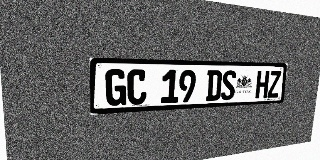1: (161, 70, 179, 103)
9: (179, 70, 196, 103)
C: (127, 69, 147, 105)
D: (206, 70, 222, 101)
G: (105, 69, 126, 106)
H: (255, 71, 270, 99)
S: (221, 70, 237, 100)
Z: (267, 71, 281, 98)
